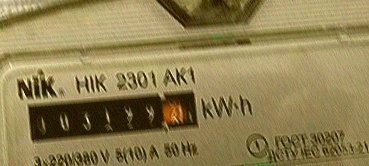0: (60, 111, 72, 131), (37, 114, 47, 132)
1: (104, 105, 114, 123)
3: (82, 109, 93, 130)
6: (170, 108, 181, 122)
9: (124, 102, 136, 123), (147, 103, 158, 121)
screen: (22, 81, 207, 148)
